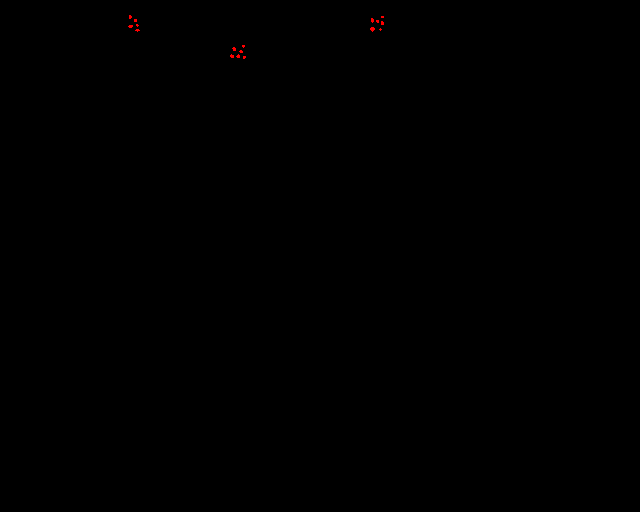Target: (370, 27, 375, 32), (232, 47, 236, 51), (230, 54, 234, 58), (236, 54, 240, 58), (371, 18, 374, 23), (128, 25, 133, 28), (135, 29, 140, 32), (129, 15, 132, 19), (381, 21, 384, 25), (239, 50, 243, 53), (134, 19, 137, 22), (376, 20, 379, 23), (136, 24, 139, 27), (379, 28, 382, 31), (242, 45, 245, 48), (243, 56, 246, 59), (381, 16, 384, 18)
